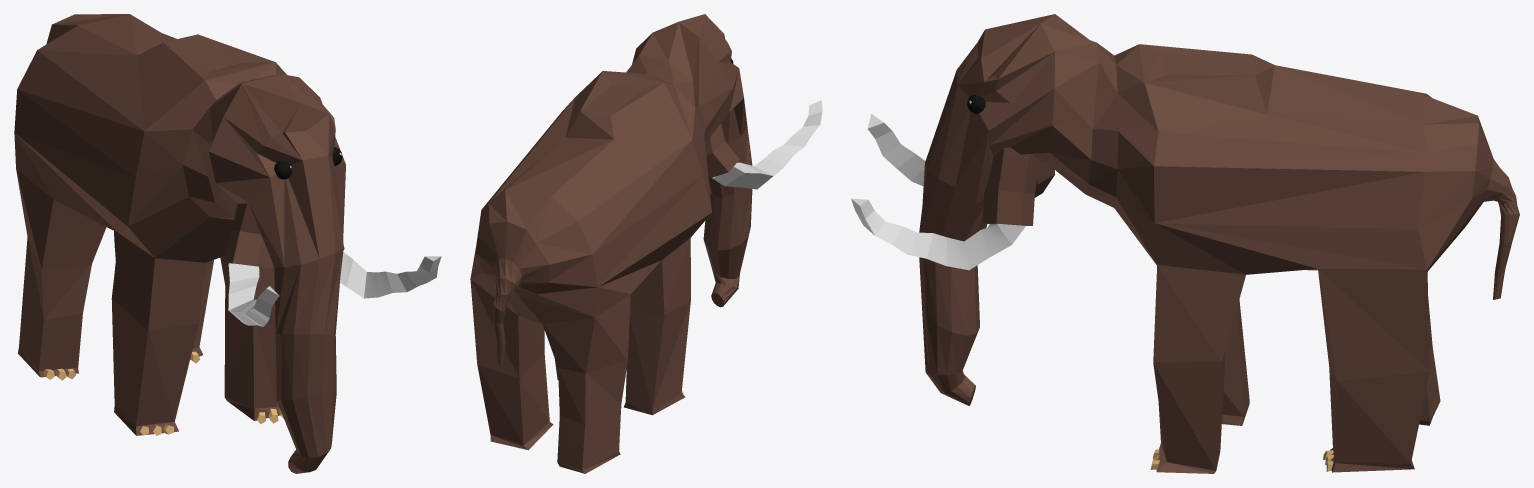
File: WoollyMammoth.glb
3 views of the same model, side by side, from view 1: azimuth 30°, elevation 25°; view 2: azimuth 150°, elevation 25°; view 3: azimuth 270°, elevation 25° (orthographic). The views are drawn at different scales.
Visible parts, largest first — view 1: node_MeshObject429421888-PolyPaper23; view 2: node_MeshObject429421888-PolyPaper23; view 3: node_MeshObject429421888-PolyPaper23.
Boxes of the visible parts, left/top/right/bottom form: node_MeshObject429421888-PolyPaper23: left=14, top=14, right=441, bottom=473; node_MeshObject429421888-PolyPaper23: left=470, top=14, right=822, bottom=473; node_MeshObject429421888-PolyPaper23: left=851, top=14, right=1519, bottom=473.
Bounding box in the file's own units: 0.3442 × 0.6984 × 1.
